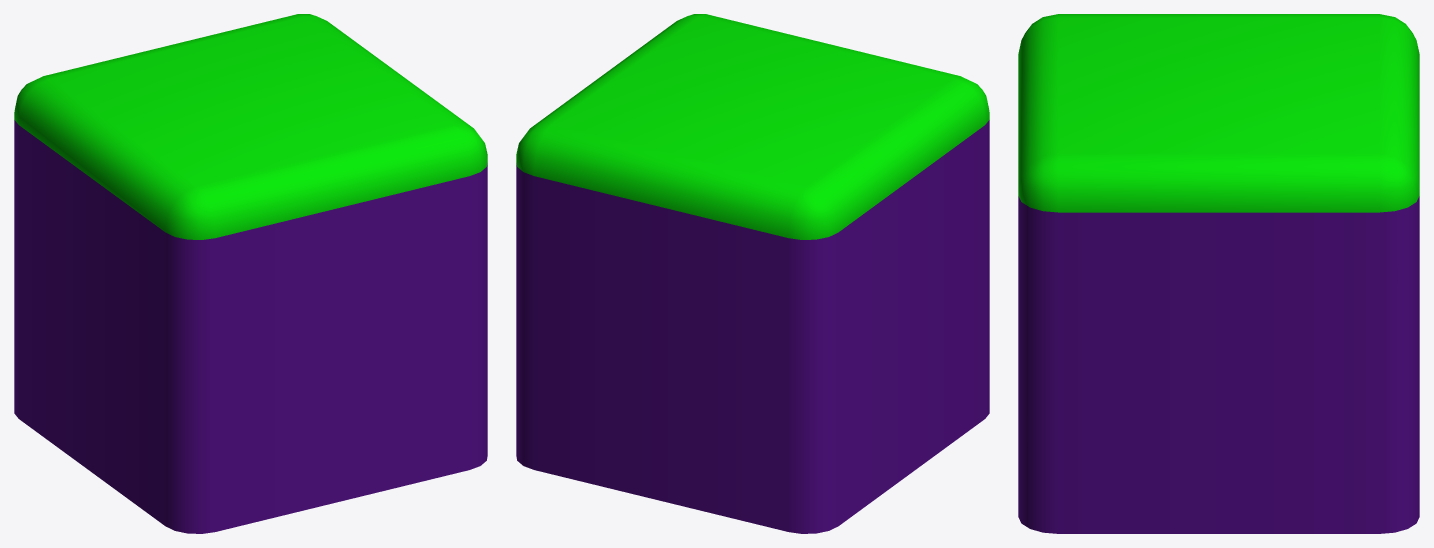
Rendered from base_small.fbx.
3 views of the same model, side by side, from view 1: azimuth 30°, elevation 25°; view 2: azimuth 150°, elevation 25°; view 3: azimuth 270°, elevation 25° (orthographic). The views are drawn at different scales.
Parts seen in each view (by area): view 1: Cube.001; view 2: Cube.001; view 3: Cube.001.
Boxes of the visible parts, x1=… form: Cube.001: x1=14, y1=14, x2=487, y2=533; Cube.001: x1=516, y1=14, x2=989, y2=533; Cube.001: x1=1018, y1=14, x2=1419, y2=533.
Size of the model in its own units: 20 by 20 by 20.
